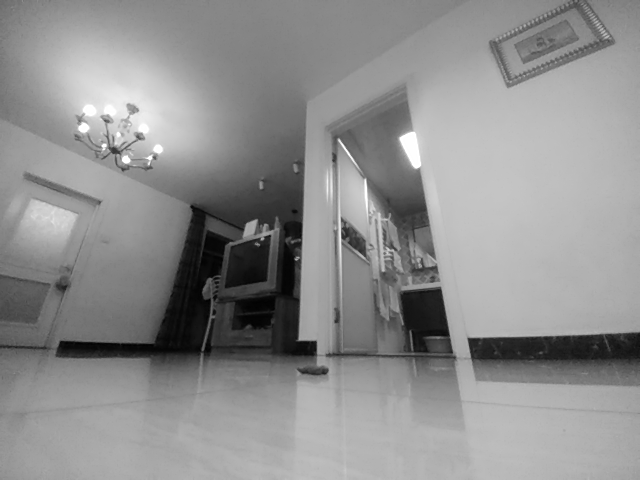curtain: (153, 205, 208, 356)
pet feces: (295, 364, 330, 377)
